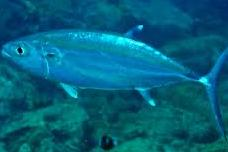Scombridae -Tunas-: (0, 19, 228, 144)
